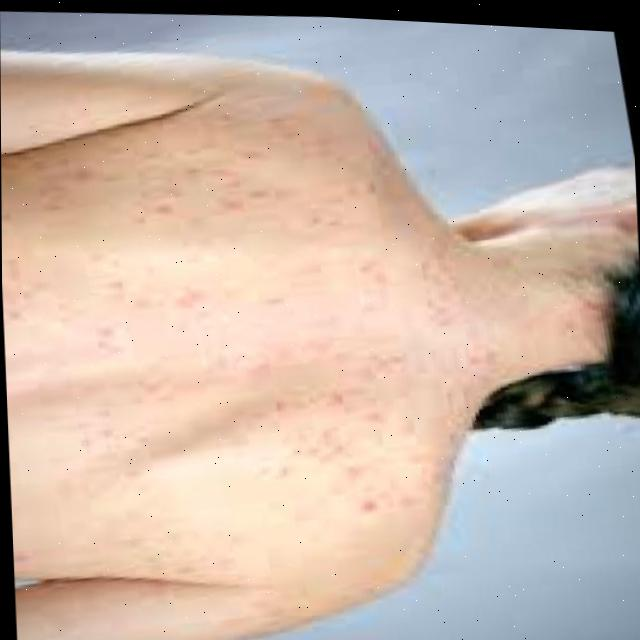Eczema: (43, 57, 464, 539)
